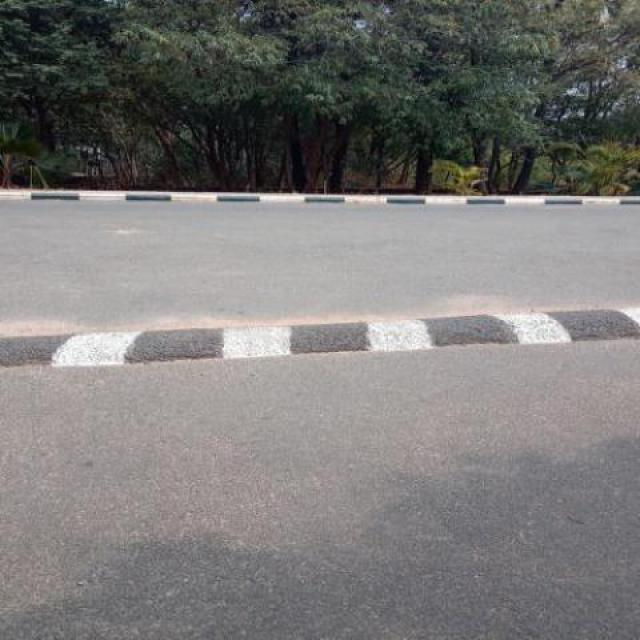Speed Bump: (4, 308, 639, 368)
